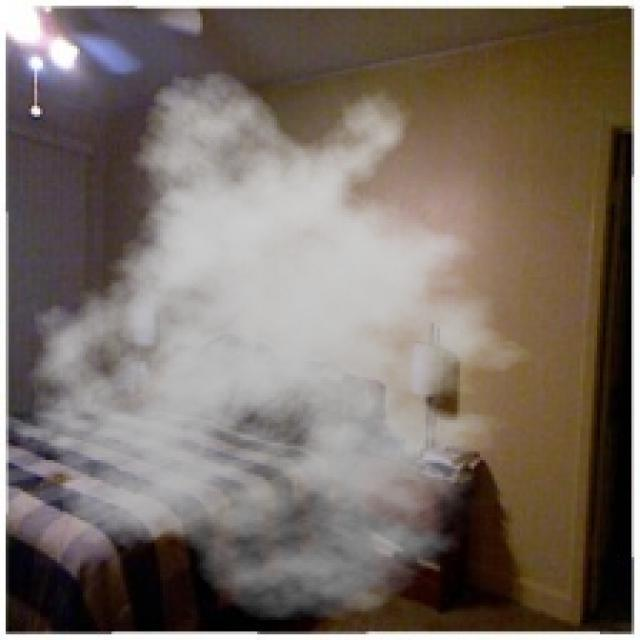Smoke: (0, 68, 557, 623)
